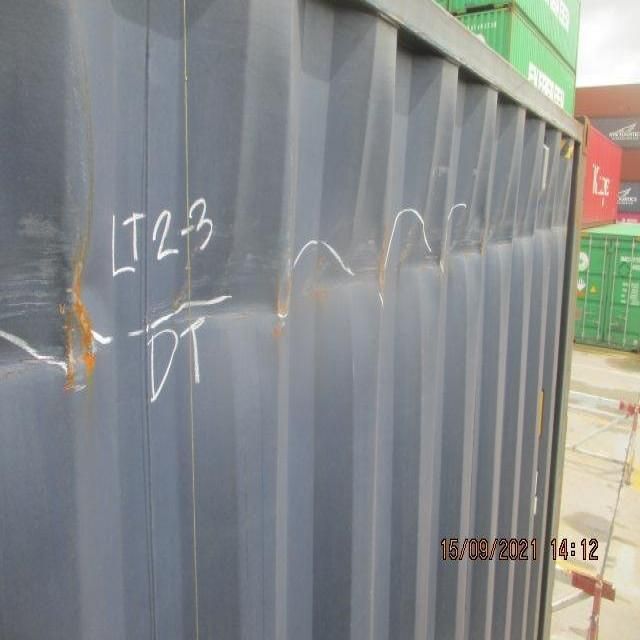Dent: (51, 152, 573, 408)
